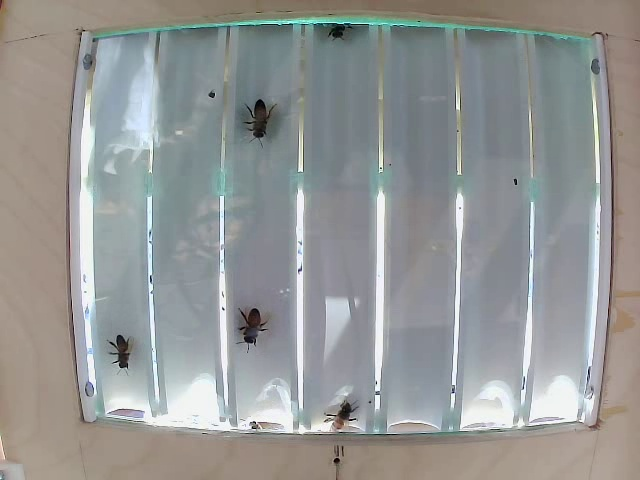bee: (233, 303, 276, 366), (239, 95, 277, 147), (326, 386, 369, 427), (110, 331, 145, 377)
